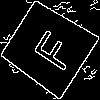F: (24, 23, 79, 74)
